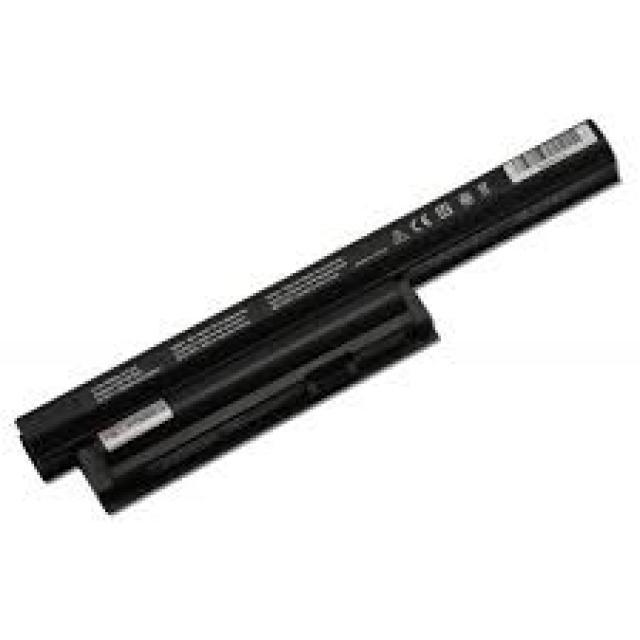battery: (16, 119, 624, 518)
